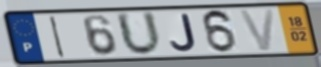6: (201, 8, 242, 56), (81, 13, 118, 57)
I: (48, 14, 67, 60)
J: (168, 13, 199, 53)
U: (114, 10, 165, 58)
V: (236, 7, 277, 53)
